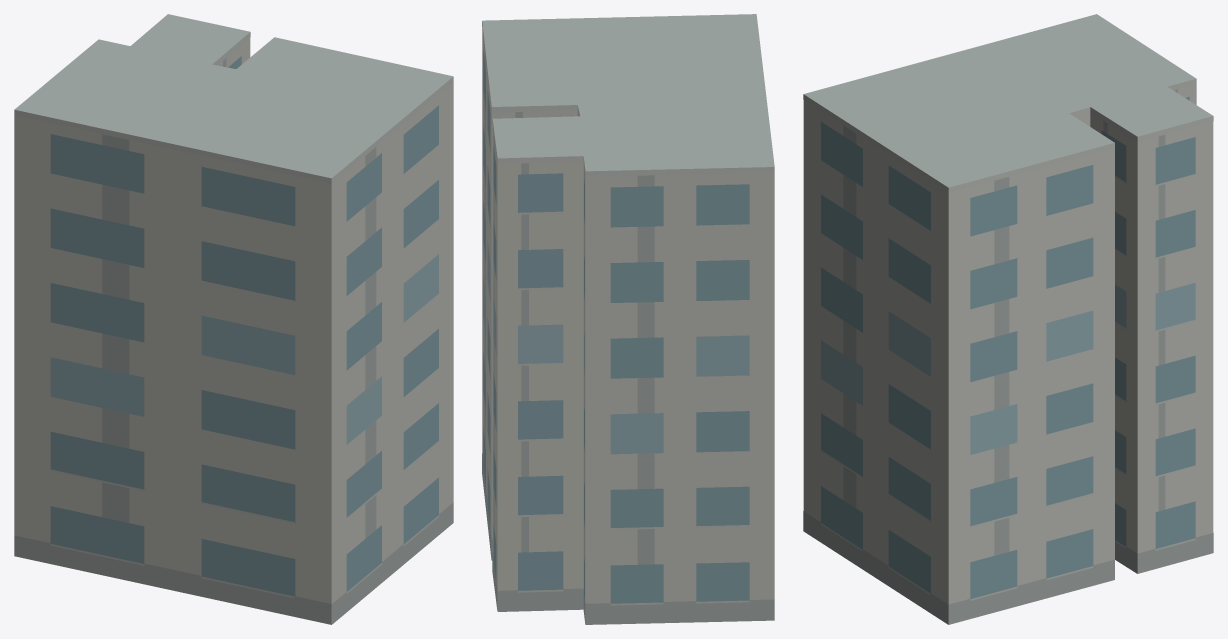
File: survey-upis-32880407.glb
3 renders of one model, left to right at view 1: azimuth 30°, elevation 25°; view 2: azimuth 150°, elevation 25°; view 3: azimuth 270°, elevation 25°, orthographic. The views are drawn at different scales.
Visible parts, largest first — view 1: survey-upis-32880407.tmp; view 2: survey-upis-32880407.tmp; view 3: survey-upis-32880407.tmp.
Part boxes in pixels (bbox=[...]): survey-upis-32880407.tmp: bbox=[14, 14, 453, 624]; survey-upis-32880407.tmp: bbox=[482, 14, 774, 624]; survey-upis-32880407.tmp: bbox=[803, 14, 1213, 624].
Bounding box in the file's own units: 16.75 × 19.65 × 16.71.
